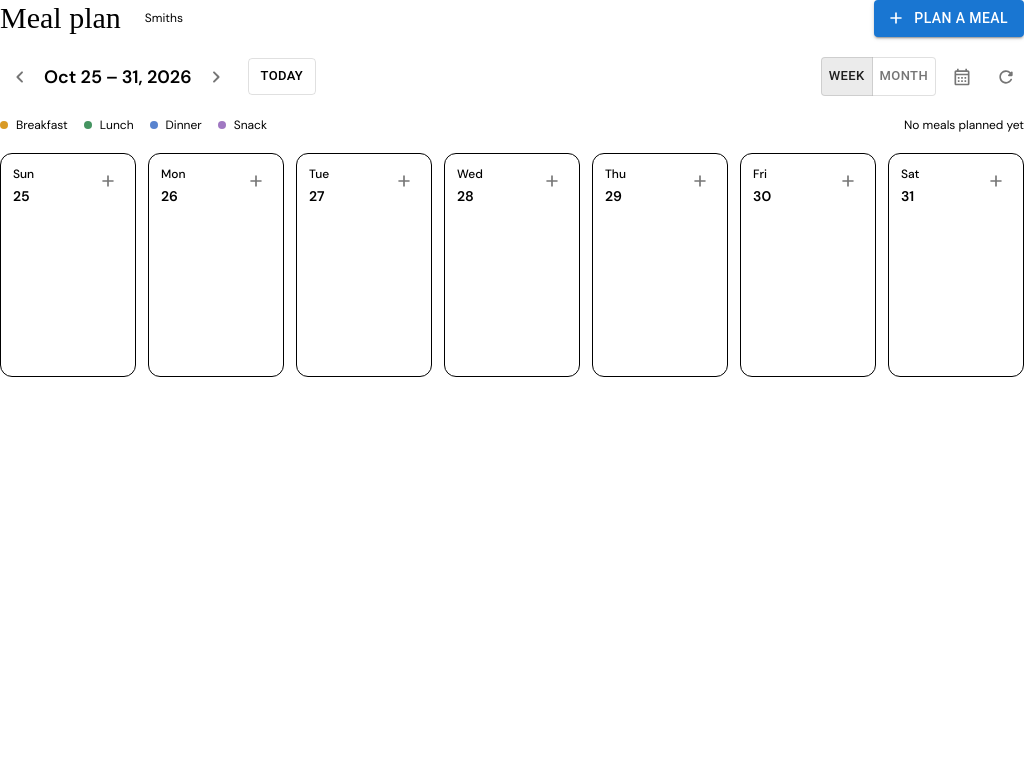
Test case: adding a custom meal from a day saves against that date
Click the button named "Plan meal for 2026-10-28".
click(552, 180)  # box [537,166,567,196]
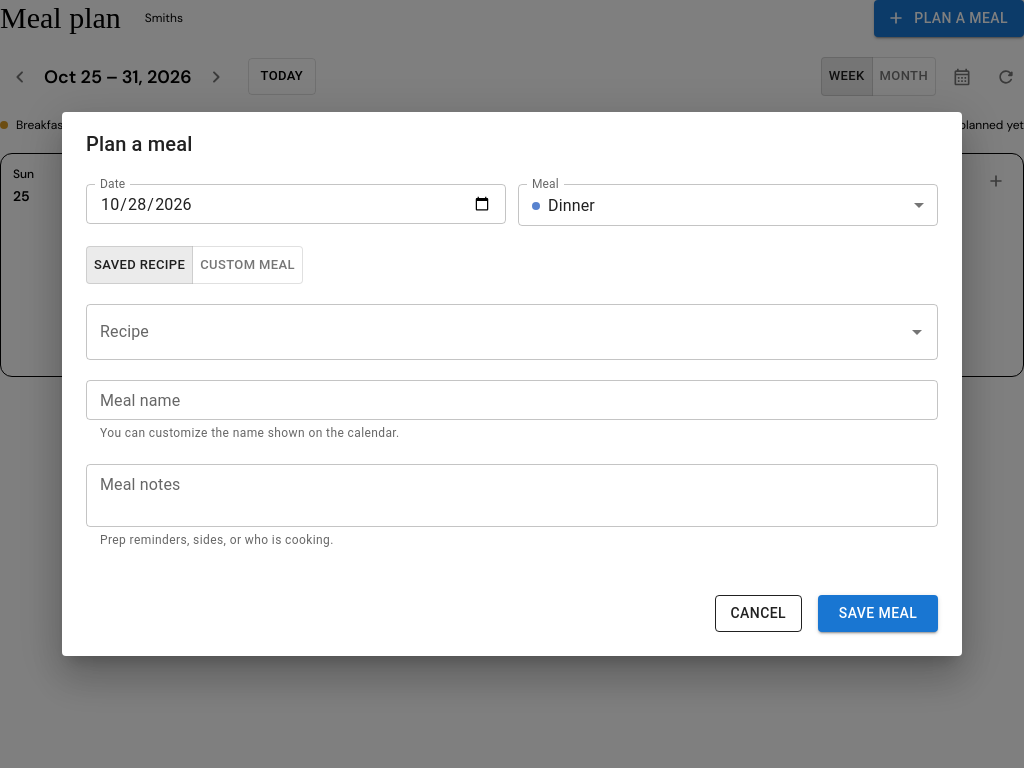
Now the date field labelled "Date" holds "2026-10-28", box [86,184,506,224]
Click the button "Custom meal".
click(248, 265)  # box [192,246,303,284]
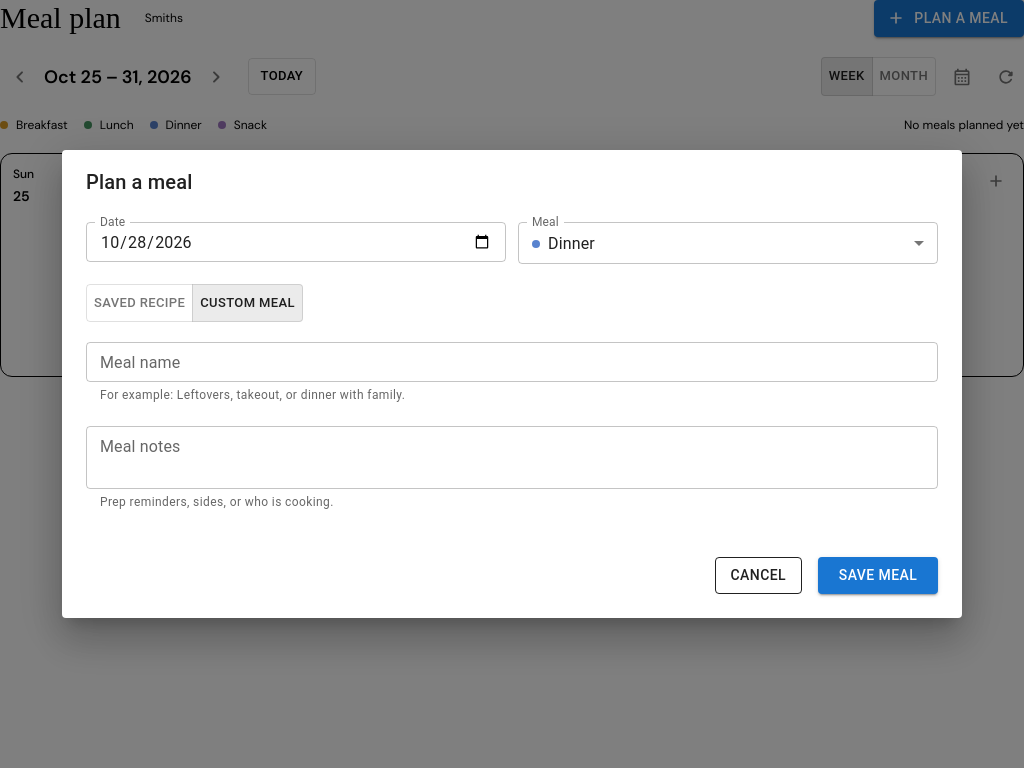
Type "Takeout" into the field labelled "Meal name".
click(512, 362); type("Takeout")  # box [86,342,938,382]
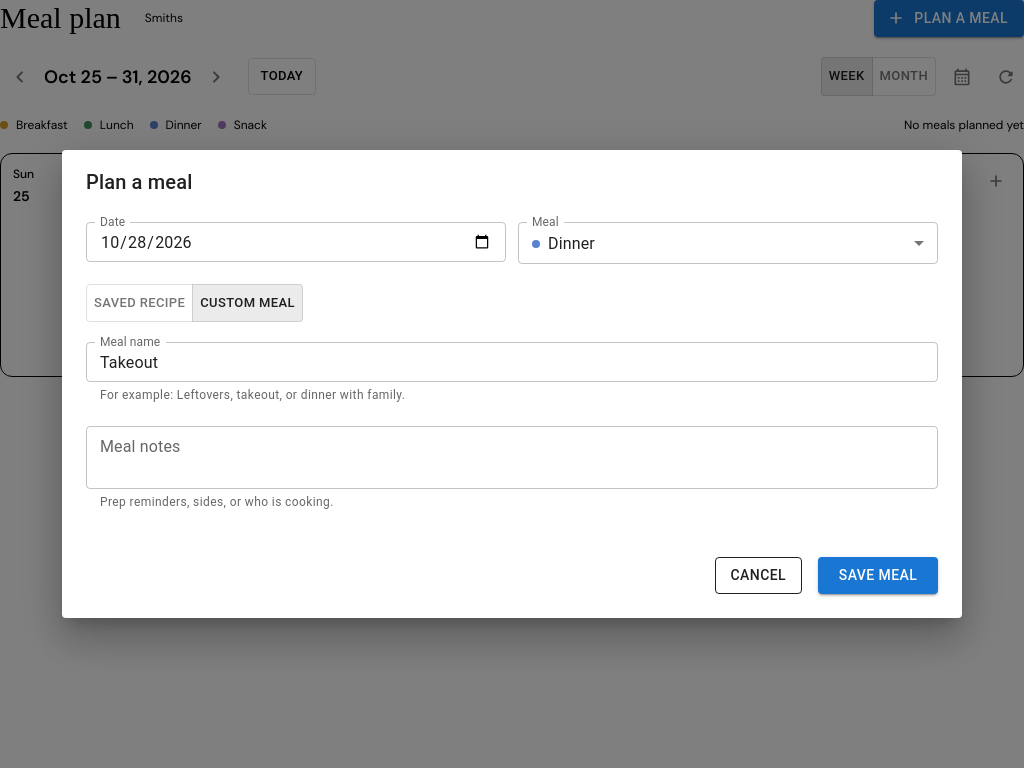
Click the button "Save meal".
click(878, 576)  # box [818,557,938,594]
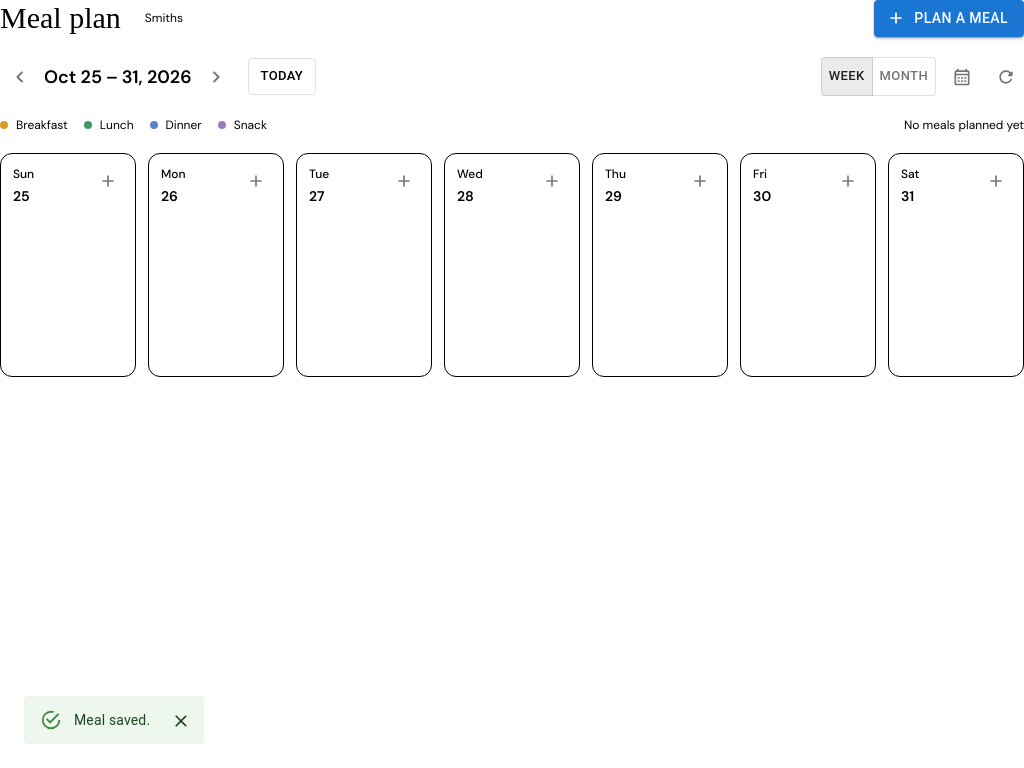
Now the text "Meal saved." is shown, box [74,712,150,728]
